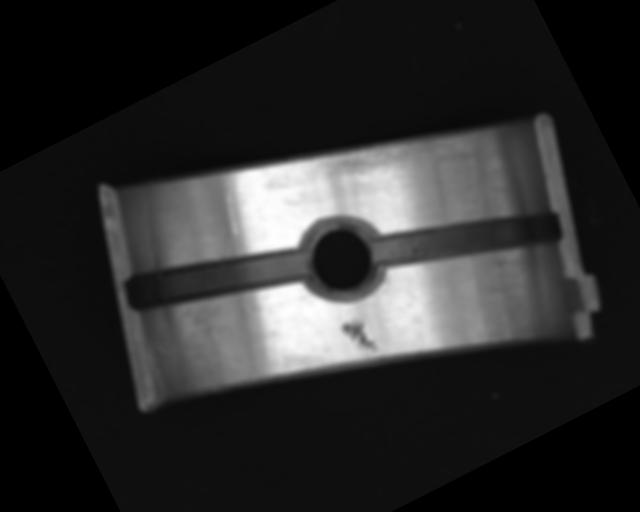bruise: (339, 313, 380, 362)
gap: (368, 161, 565, 319), (119, 204, 312, 352)
hole: (284, 204, 397, 315)
nick: (209, 168, 262, 234)
scratch: (255, 72, 495, 254)
